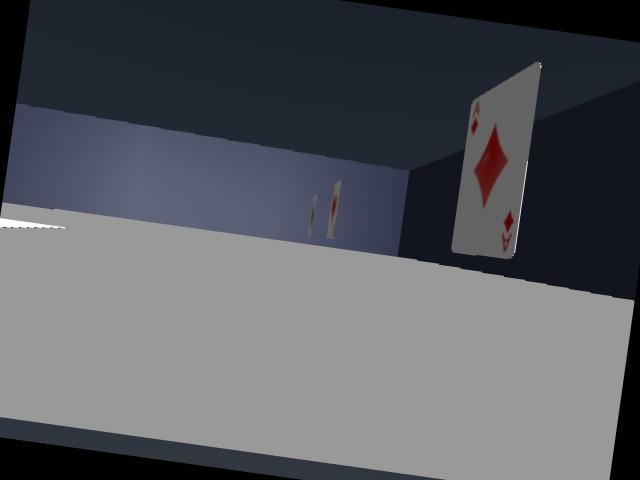diamond: (451, 62, 540, 258)
